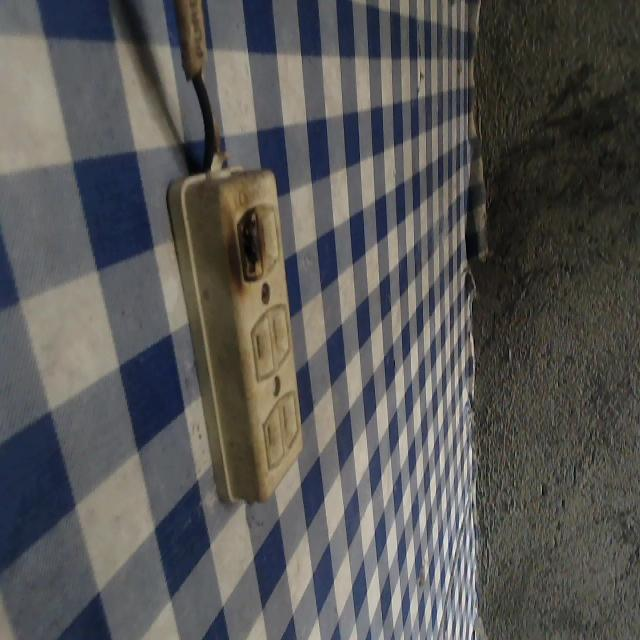-: (227, 199, 274, 281)
